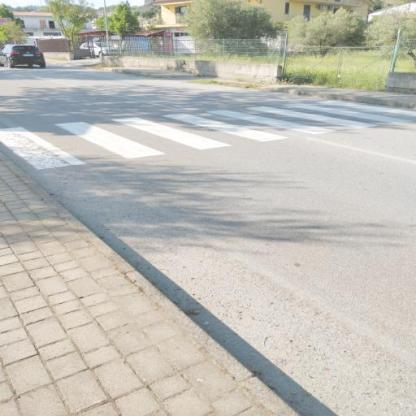crosswalk: (52, 113, 240, 162)
